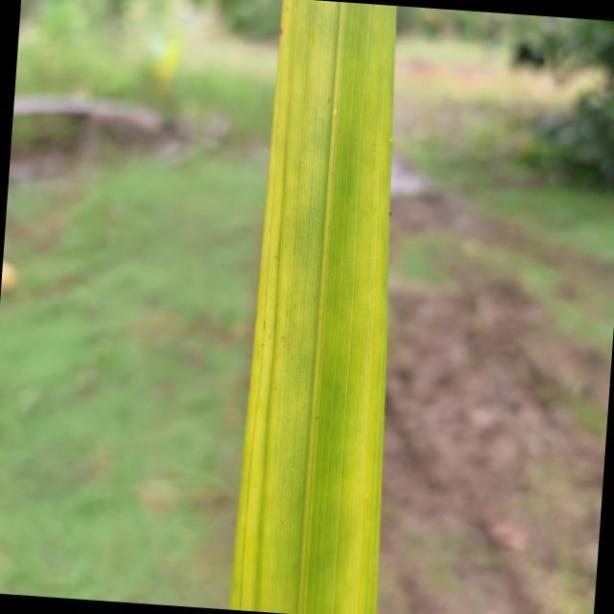nitrogen: (229, 0, 398, 614)
